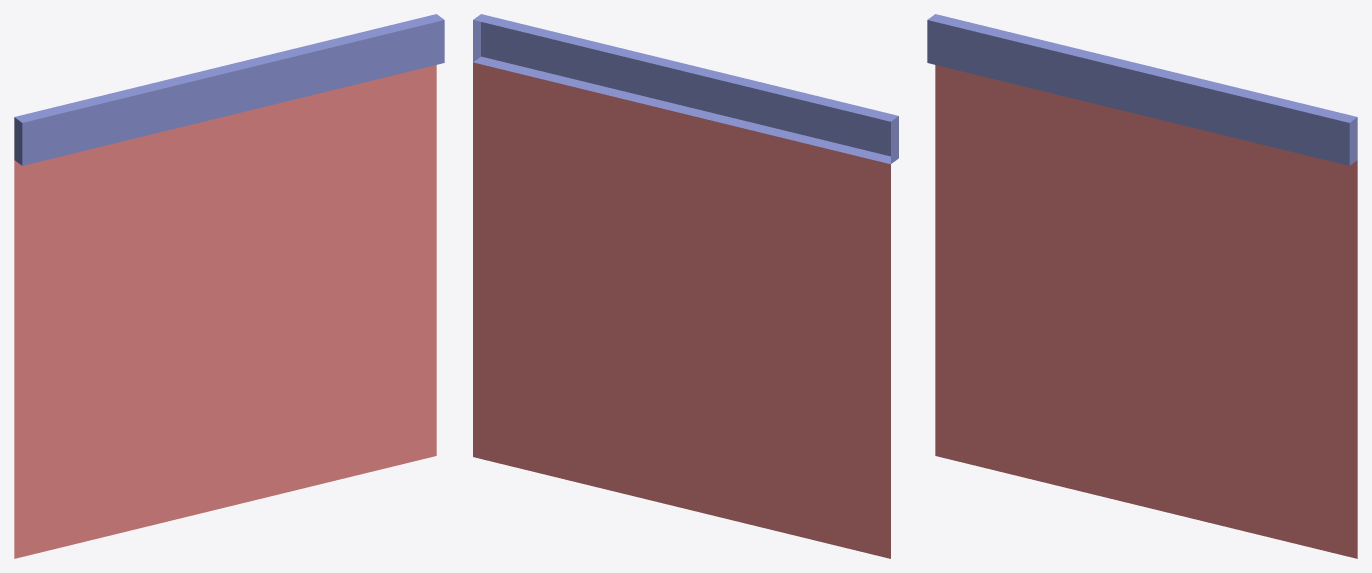
File: Wall1.FBX
The picture shows the model from 3 angles, left to right: view 1: azimuth 30°, elevation 25°; view 2: azimuth 150°, elevation 25°; view 3: azimuth 330°, elevation 25°; orthographic projection.
Parts seen in each view (by area): view 1: Box430; view 2: Box430; view 3: Box430.
Part boxes in pixels (x1=…): Box430: x1=14, y1=14, x2=444, y2=558; Box430: x1=473, y1=14, x2=898, y2=558; Box430: x1=927, y1=14, x2=1357, y2=558.
Bounding box in the file's own units: 300 × 300 × 10.
